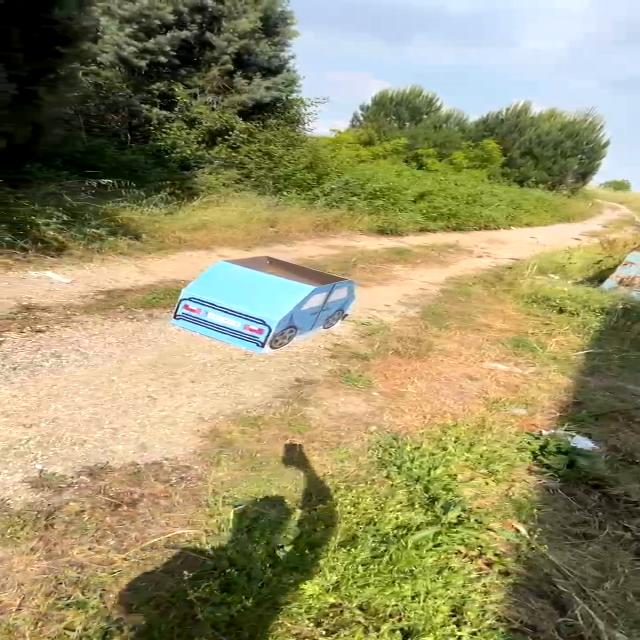blue_car: (153, 245, 371, 358)
